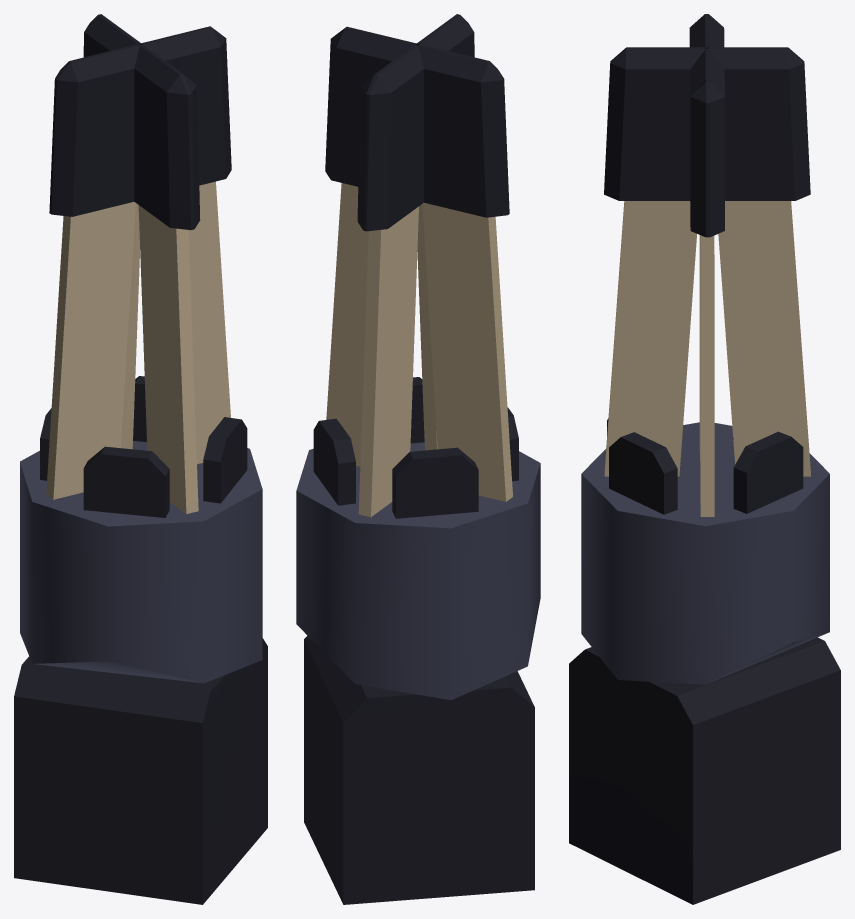
Rendered from turret2.FBX.
3 views of the same model, side by side, from view 1: azimuth 30°, elevation 25°; view 2: azimuth 150°, elevation 25°; view 3: azimuth 270°, elevation 25° (orthographic).
Visible parts, largest first — view 1: turrettop, turretbase; view 2: turrettop, turretbase; view 3: turrettop, turretbase.
Boxes of the visible parts, x1,y1,x2,y2 form: turrettop: (20,14,262,683); turretbase: (14,638,267,904); turrettop: (296,14,540,700); turretbase: (304,636,534,904); turrettop: (581,14,829,684); turretbase: (569,637,840,904).
Size of the model in its own units: 40.76 by 130 by 40.1.
